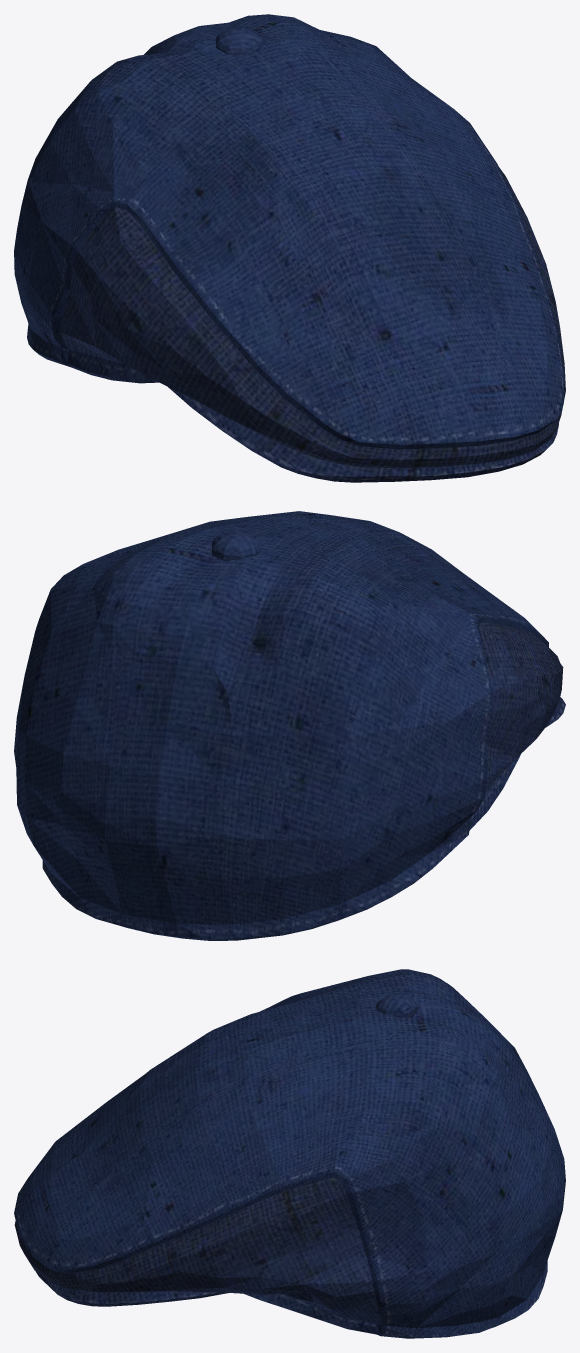
Rendered from HK_BERET_BLUE.glb.
The picture shows the model from 3 angles, top to bottom: view 1: azimuth 30°, elevation 25°; view 2: azimuth 150°, elevation 25°; view 3: azimuth 270°, elevation 25°; orthographic projection. The views are drawn at different scales.
Parts seen in each view (by area): view 1: HK_BERET_BLUE; view 2: HK_BERET_BLUE; view 3: HK_BERET_BLUE.
Part boxes in pixels (<box>): HK_BERET_BLUE: <box>14,14,565,482</box>; HK_BERET_BLUE: <box>14,511,565,940</box>; HK_BERET_BLUE: <box>14,969,565,1338</box>.
Bounding box in the file's own units: 0.2344 × 0.1761 × 0.3107.
Materials: 1 (1 with a texture image).
